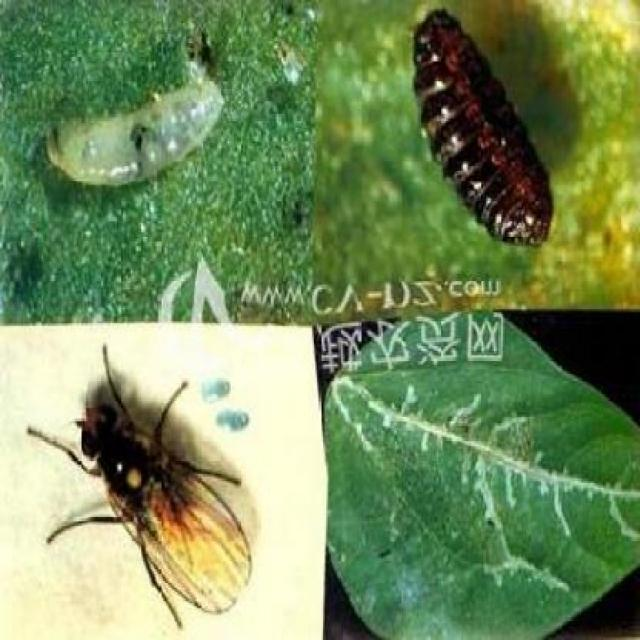whorl-maggot: (397, 4, 572, 250), (37, 66, 245, 191)
